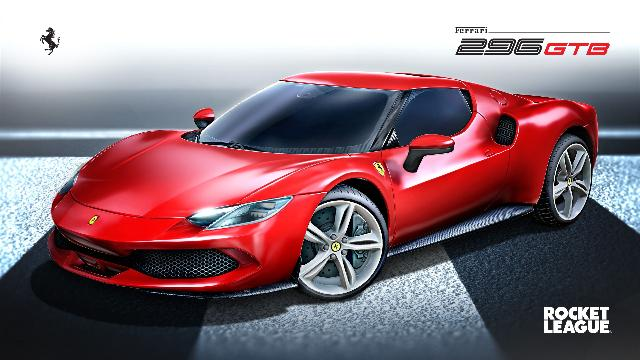ferrari: (47, 71, 595, 301)
